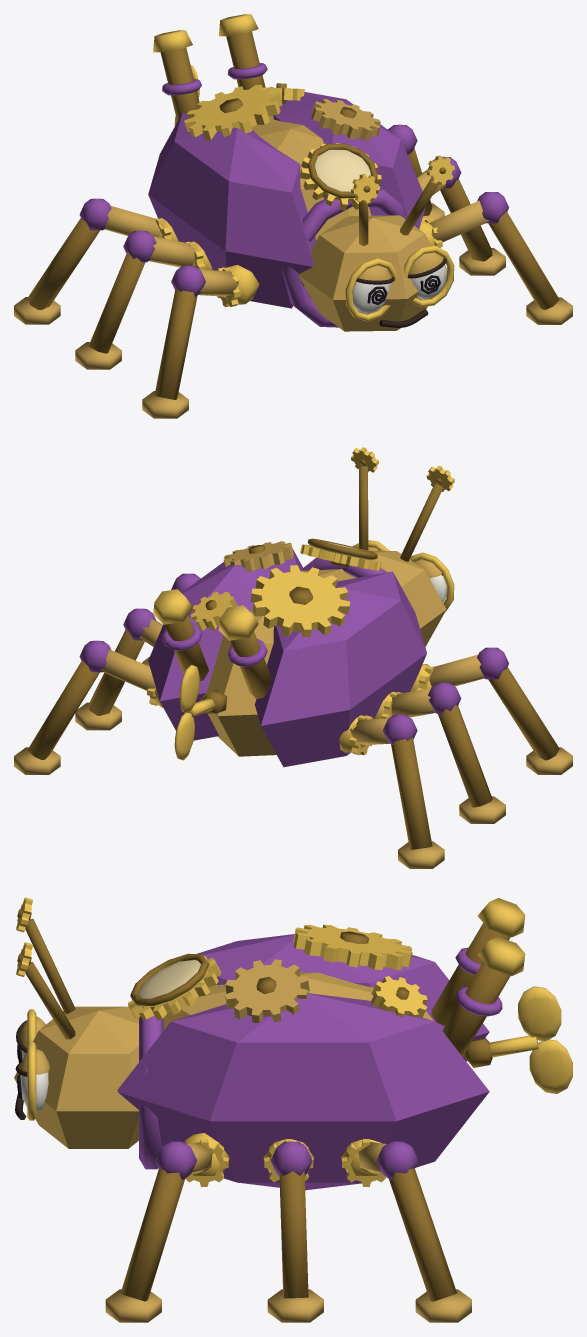
The model's file is besouro.glb.
3 views of the same model, one above another, from view 1: azimuth 30°, elevation 25°; view 2: azimuth 150°, elevation 25°; view 3: azimuth 270°, elevation 25° (orthographic). The views are drawn at different scales.
Visible parts, largest first — view 1: Besouro_elitro-1, Besouro_cabeca, Besouro_elitro1, Besouro_engrenagem_grande, Besouro_colar, Besouro_perna-1_0_canela, Besouro_abdomen, Besouro_perna1_0_canela, Besouro_perna-1_2_canela, Besouro_perna-1_1_canela, Besouro_engrenagem_media, Besouro_escudo (+28 smaller); view 2: Besouro_elitro-1, Besouro_elitro1, Besouro_engrenagem_grande, Besouro_abdomen, Besouro_cabeca, Besouro_perna-1_2_canela, Besouro_perna1_2_canela, Besouro_perna-1_0_canela, Besouro_perna-1_1_canela, Besouro_perna1_1_canela, Besouro_engrenagem_media, Besouro_escape-1 (+26 smaller); view 3: Besouro_elitro1, Besouro_cabeca, Besouro_elitro-1, Besouro_perna1_2_canela, Besouro_perna1_0_canela, Besouro_engrenagem_media, Besouro_engrenagem_grande, Besouro_perna1_1_canela, Besouro_escape1, Besouro_abdomen, Besouro_colar, Besouro_chave_asa1 (+25 smaller).
Boxes of the visible parts, x1,y1,x2,y2 form: Besouro_elitro-1: (148,112,316,308); Besouro_cabeca: (298,215,431,331); Besouro_elitro1: (273,92,425,228); Besouro_engrenagem_grande: (184,85,282,140); Besouro_colar: (282,188,409,327); Besouro_perna-1_0_canela: (154,288,197,399); Besouro_abdomen: (251,116,371,296); Besouro_perna1_0_canela: (488,211,559,309); Besouro_perna-1_2_canela: (27,218,99,309); Besouro_perna-1_1_canela: (89,252,145,353); Besouro_engrenagem_media: (311,99,380,140); Besouro_escudo: (314,149,370,191); Besouro_elitro-1: (254,571,426,767); Besouro_elitro1: (148,548,303,740); Besouro_engrenagem_grande: (250,565,350,637); Besouro_abdomen: (200,569,351,756); Besouro_cabeca: (347,550,446,646); Besouro_perna-1_2_canela: (391,737,432,849); Besouro_perna1_2_canela: (27,660,99,759); Besouro_perna-1_0_canela: (488,667,559,760); Besouro_perna-1_1_canela: (438,704,492,807); Besouro_perna1_1_canela: (89,630,144,715); Besouro_engrenagem_media: (223,541,293,572); Besouro_escape-1: (230,631,271,698); Besouro_elitro1: (117,993,489,1190); Besouro_cabeca: (14,1006,138,1148); Besouro_elitro-1: (197,934,489,1061); Besouro_perna1_2_canela: (389,1168,456,1301); Besouro_perna1_0_canela: (120,1168,184,1301); Besouro_engrenagem_media: (225,959,309,1022); Besouro_engrenagem_grande: (293,924,412,969); Besouro_perna1_1_canela: (279,1171,308,1298); Besouro_escape1: (442,961,510,1056); Besouro_abdomen: (163,972,433,1030); Besouro_colar: (139,1015,163,1169); Besouro_chave_asa1: (518,986,561,1041).
Bounding box in the file's own units: 1.66 × 0.8704 × 1.59.
